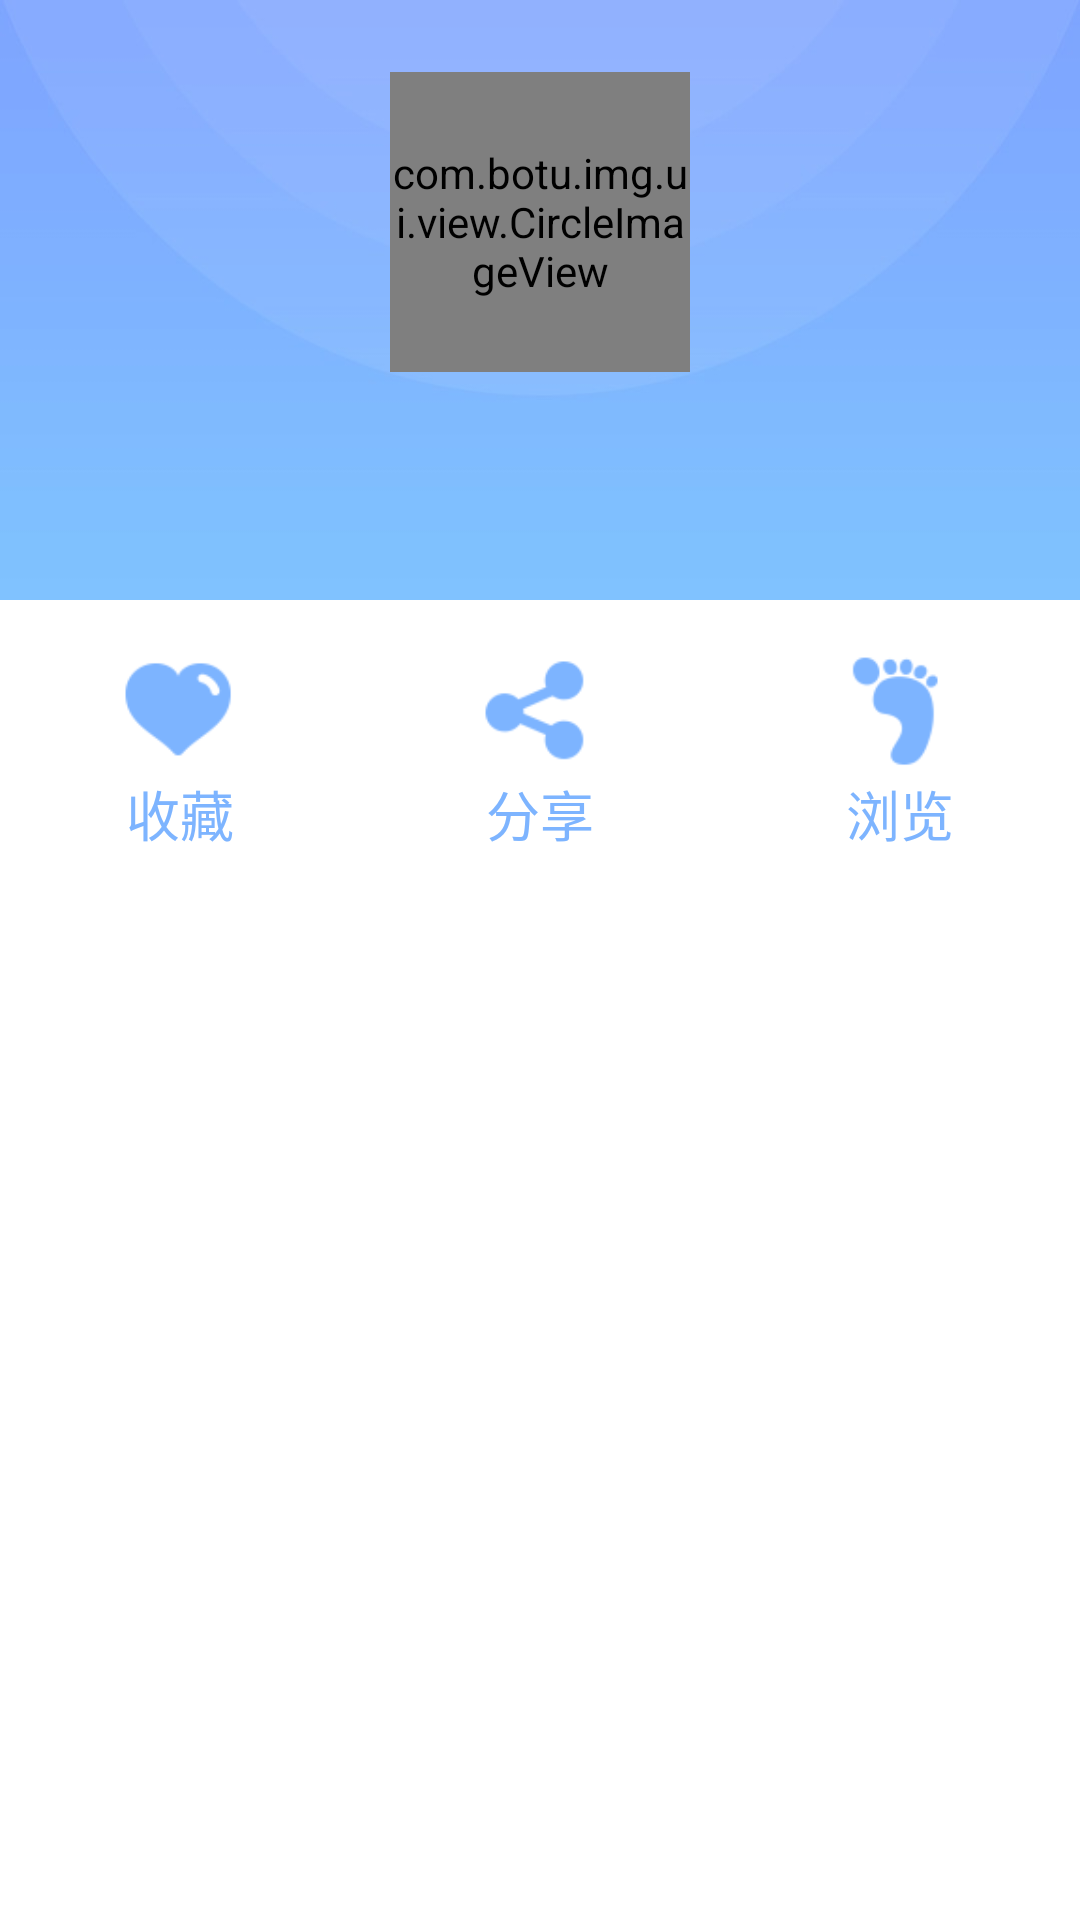

Locate icon controls on the screen. Image size 1080 × 1920, boxes as (x1, y1, x2, y2).
foot: (853, 657, 938, 765)
